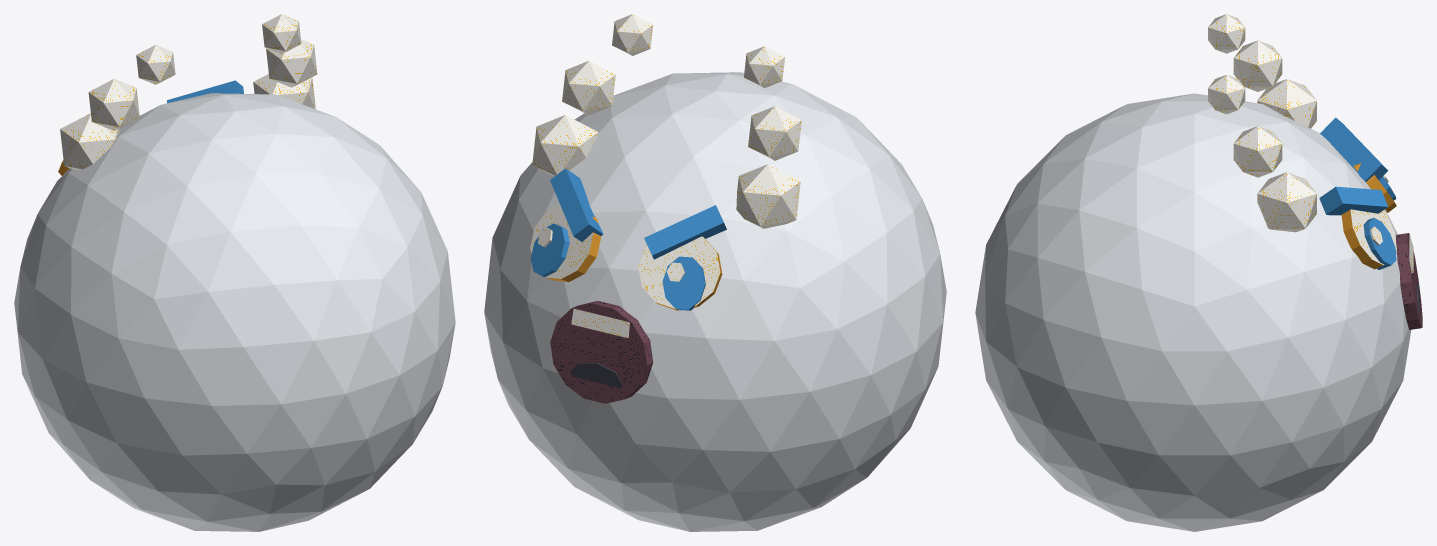
Rendered from CH_Topik_T5_Eat.fbx.
The picture shows the model from 3 angles, left to right: view 1: azimuth 30°, elevation 25°; view 2: azimuth 150°, elevation 25°; view 3: azimuth 270°, elevation 25°; orthographic projection. The views are drawn at different scales.
Visible parts, largest first — view 1: CH_Topik_T5_Eat; view 2: CH_Topik_T5_Eat; view 3: CH_Topik_T5_Eat.
Boxes of the visible parts, left/top/right/bottom form: CH_Topik_T5_Eat: left=14, top=14, right=455, bottom=531; CH_Topik_T5_Eat: left=484, top=14, right=946, bottom=531; CH_Topik_T5_Eat: left=975, top=14, right=1422, bottom=531.
Size of the model in its own units: 1 by 1.17 by 1.02.
